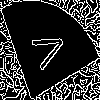V: (24, 24, 67, 76)
